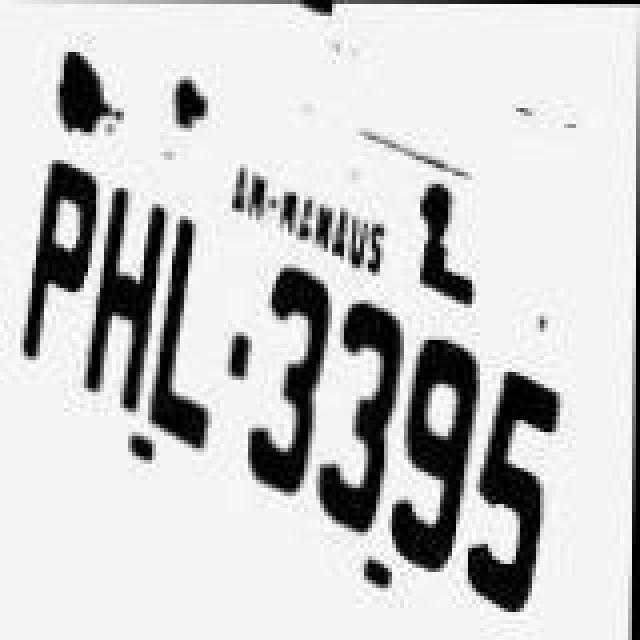3: (246, 262, 330, 542), (326, 280, 402, 540)
5: (472, 332, 572, 636)
9: (396, 320, 480, 596)
H: (88, 188, 160, 420)
L: (154, 214, 230, 494)
P: (8, 152, 96, 456)
